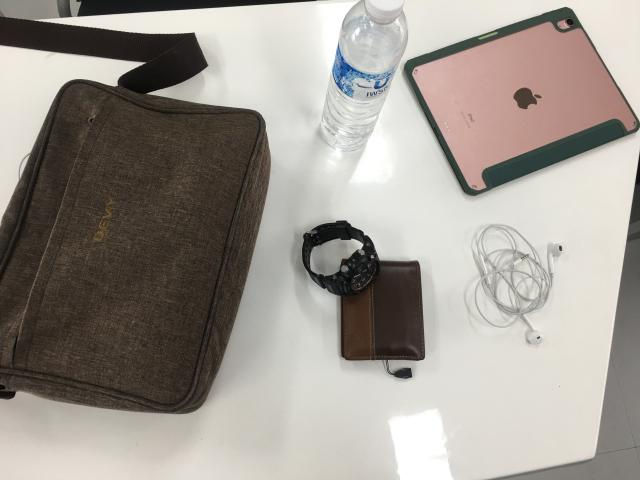Wallet: (339, 263, 425, 363)
Watch: (299, 222, 380, 298)
bottle: (316, 0, 410, 158)
wire: (462, 222, 570, 352)
